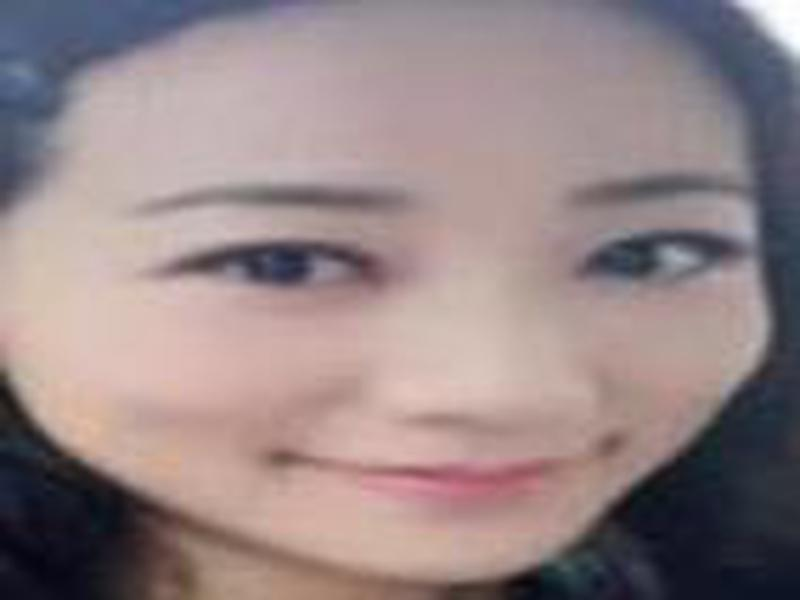without_mask: (10, 29, 770, 583)
